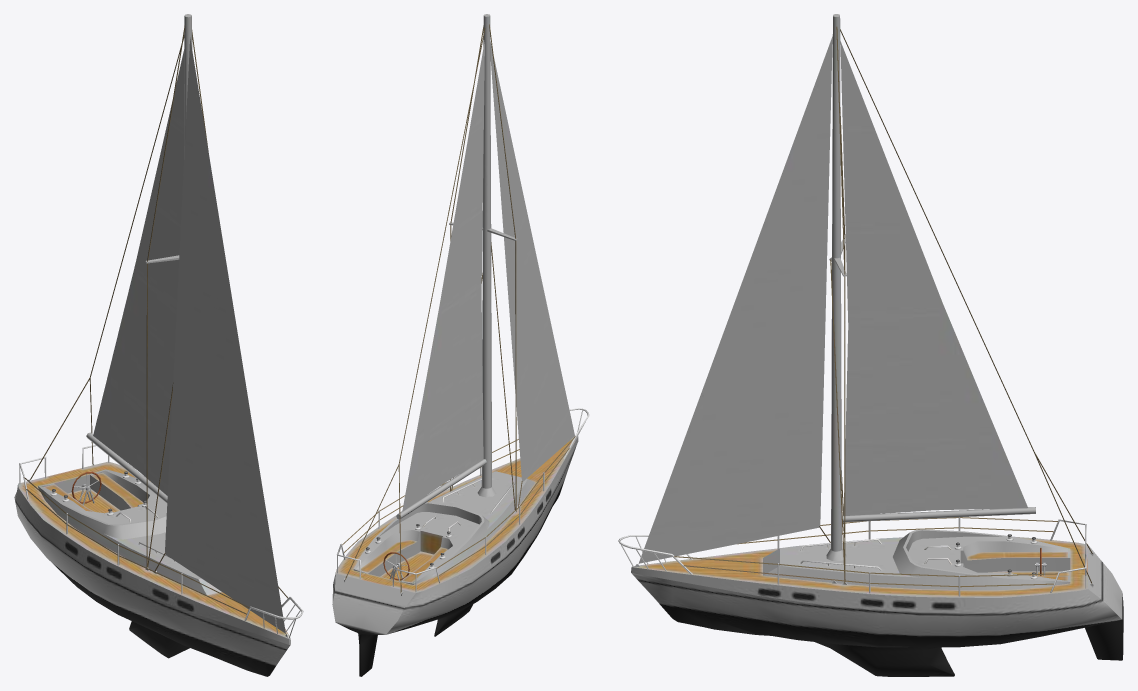
Rendered from sailboat_lo.glb.
3 renders of one model, left to right at view 1: azimuth 30°, elevation 25°; view 2: azimuth 150°, elevation 25°; view 3: azimuth 270°, elevation 25°, orthographic. The views are drawn at different scales.
Parts seen in each view (by area): view 1: sailboat; view 2: sailboat; view 3: sailboat.
Boxes of the visible parts, x1=… form: sailboat: x1=14, y1=14, x2=303, y2=676; sailboat: x1=332, y1=14, x2=589, y2=676; sailboat: x1=618, y1=14, x2=1123, y2=676.
Bounding box in the file's own units: 3.32 × 16 × 11.08.
Materials: 1 (1 with a texture image).
